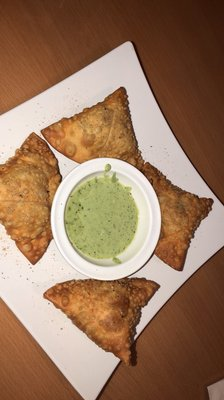sushi: (50, 157, 162, 279)
